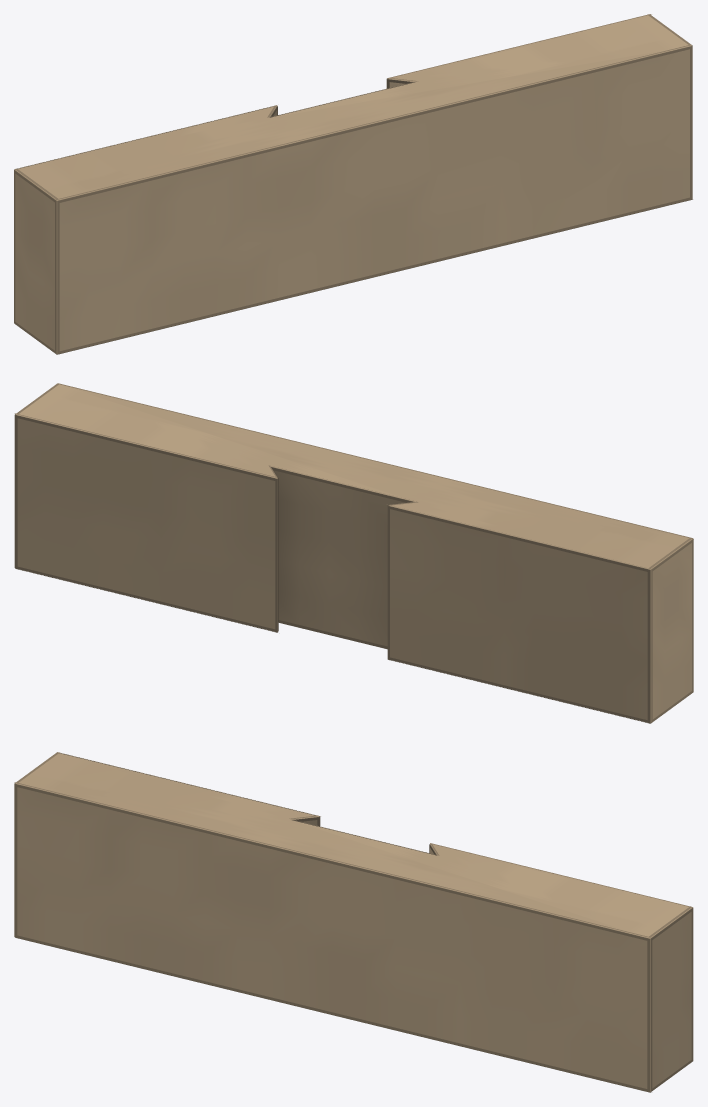
The picture shows the model from 3 angles, top to bottom: view 1: azimuth 30°, elevation 25°; view 2: azimuth 150°, elevation 25°; view 3: azimuth 330°, elevation 25°; orthographic projection.
Parts seen in each view (by area): view 1: part-b; view 2: part-b; view 3: part-b.
Part boxes in pixels (left/top/right/bottom): part-b: left=14, top=14, right=692, bottom=354; part-b: left=14, top=383, right=693, bottom=723; part-b: left=14, top=752, right=693, bottom=1092.
Size of the model in its own units: 0.3926 by 0.0908 by 0.0458.
